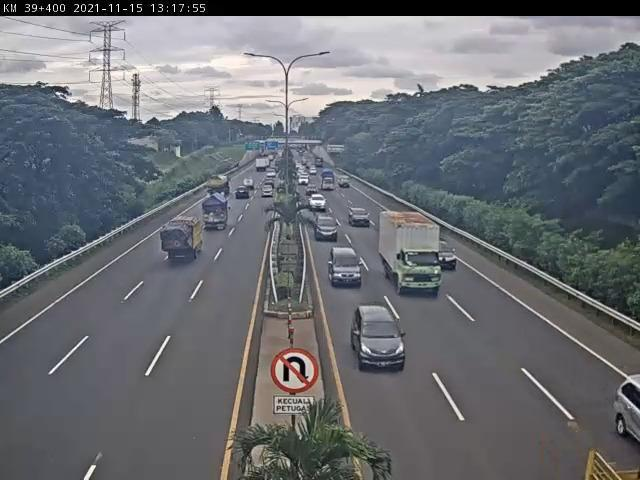car: (350, 303, 408, 373), (328, 249, 364, 289), (430, 238, 460, 272), (315, 216, 341, 244), (350, 206, 373, 230)
truck: (378, 209, 444, 298), (160, 216, 204, 264), (204, 196, 231, 235)
